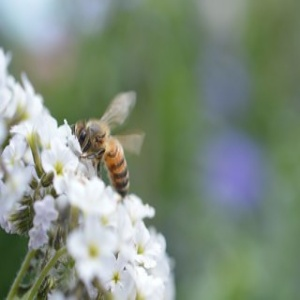bee: (73, 93, 144, 201)
